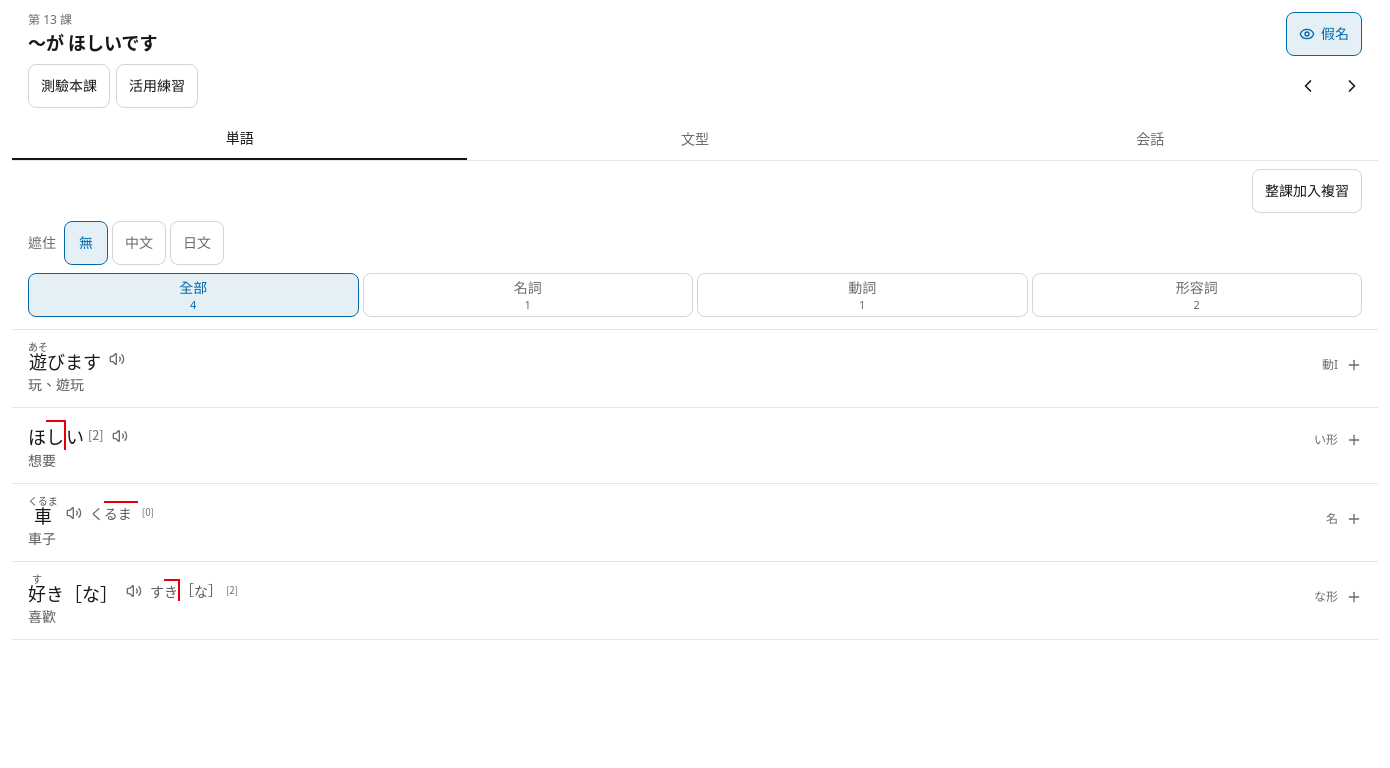
Scenario: LessonDetail › 隱藏假名時:含漢字讀音的字不顯示重音讀音,純假名字照常
expect the text "玩、遊玩" is shown: met, box [28,375,84,394]
Step 1. Click the button "假名" → (1324, 34), box [1286,12,1362,56]
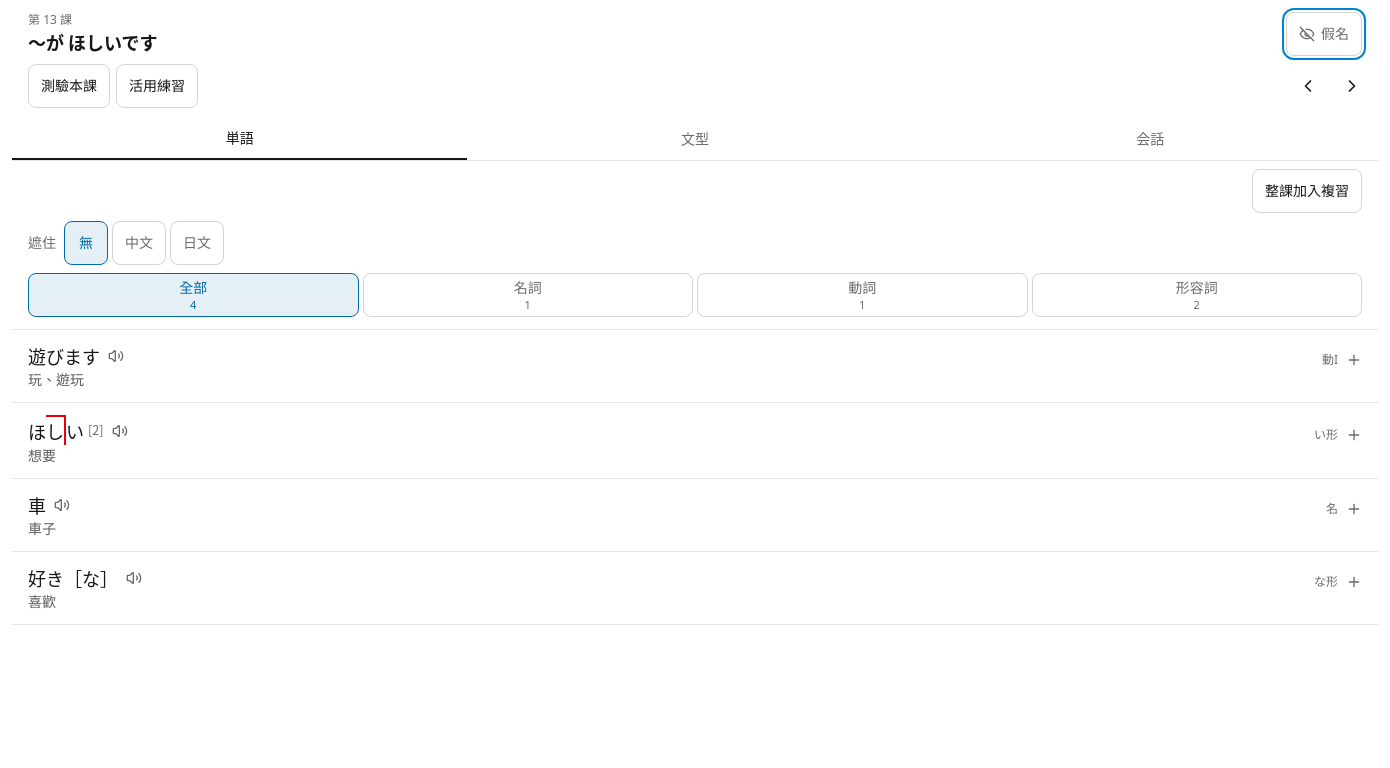
expect the text "くるま" is gone: met
